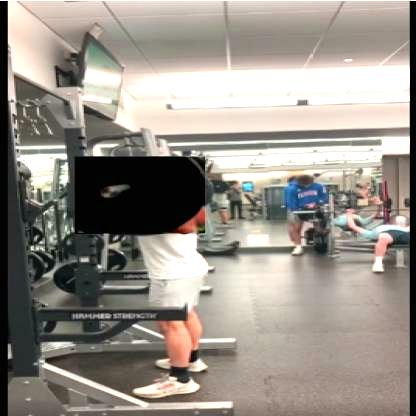barbell: (75, 157, 206, 236)
